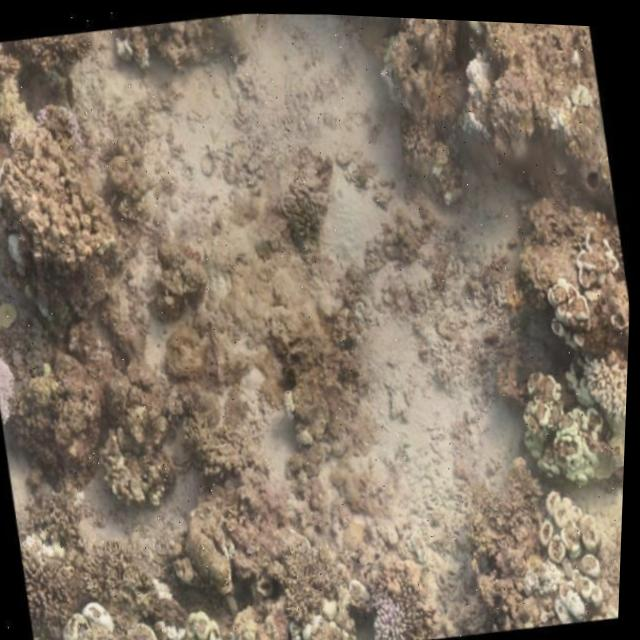Bleached Coral: (445, 46, 507, 140), (27, 91, 96, 152), (579, 340, 631, 403), (366, 585, 416, 640), (0, 351, 32, 424), (116, 630, 159, 640)
